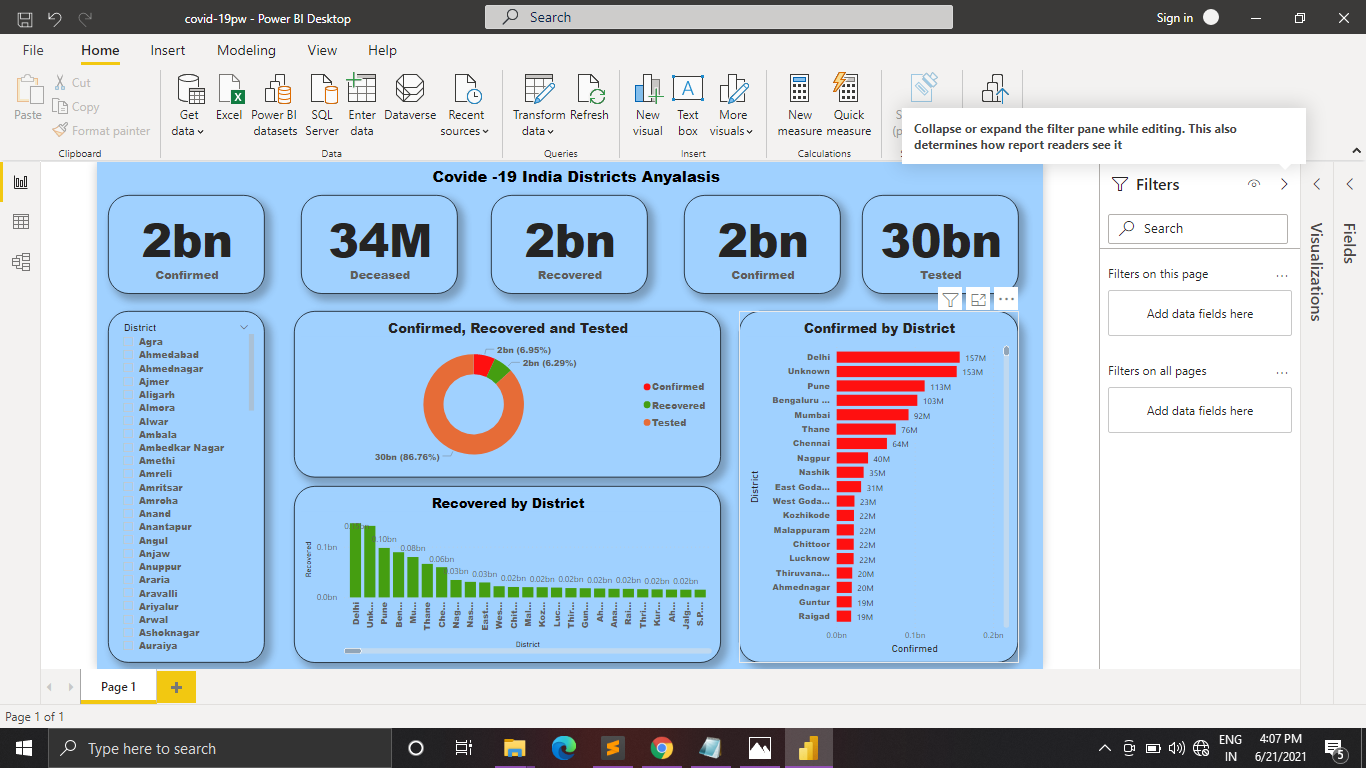

This screenshot's page, from the dashboard's own definition file:
{"tool":"powerbi","page":{"name":"Page 1","canvas":[1357,728],"ordinal":0},"visuals":[{"type":"textbox","box":[453.8,0,468.4,46.7],"z":0},{"type":"card","fields":{"Values":["Sum(districts_districts.Confirmed)"]},"box":[16.1,46.7,224.7,141.5],"z":1000},{"type":"card","fields":{"Values":["Sum(districts_districts.Deceased)"]},"box":[293.3,46.7,224.7,141.5],"z":2000},{"type":"card","fields":{"Values":["Sum(districts_districts.Recovered)"]},"box":[566.1,46.7,224.7,141.5],"z":3000},{"type":"card","fields":{"Values":["Sum(districts_districts.Confirmed)"]},"box":[843.4,46.7,224.7,141.5],"z":4000},{"type":"card","fields":{"Values":["Sum(districts_districts.Tested)"]},"box":[1098.7,46.7,224.7,141.5],"z":4001},{"type":"slicer","fields":{"Values":["districts_districts.District"]},"box":[16.1,214.5,224.7,504.9],"z":4002},{"type":"barChart","fields":{"Y":["Sum(districts_districts.Confirmed)"],"Category":["districts_districts.District"]},"box":[922.2,214.5,401.3,504.9],"z":4003},{"type":"donutChart","fields":{"Y":["Sum(districts_districts.Confirmed)","Sum(districts_districts.Recovered)","Sum(districts_districts.Tested)"]},"box":[283.1,214.5,612.8,239.3],"z":4004},{"type":"columnChart","fields":{"Category":["districts_districts.District"],"Y":["Sum(districts_districts.Recovered)"]},"box":[283.1,465.5,612.8,253.9],"z":4005}]}

Visuals, with their boxes on the page's 1357x728 design canvas (x1, y1, x2, y2). These are canvas units, not pixel positions in the 1366x768 screenshot, which may show the page scaled, cropped or inside an application window:
textbox: l=454, t=0, r=922, b=47
card - Sum(districts_districts.Confirmed): l=16, t=47, r=241, b=188
card - Sum(districts_districts.Deceased): l=293, t=47, r=518, b=188
card - Sum(districts_districts.Recovered): l=566, t=47, r=791, b=188
card - Sum(districts_districts.Confirmed): l=843, t=47, r=1068, b=188
card - Sum(districts_districts.Tested): l=1099, t=47, r=1323, b=188
slicer - districts_districts.District: l=16, t=214, r=241, b=719
barChart - Sum(districts_districts.Confirmed) x districts_districts.District: l=922, t=214, r=1324, b=719
donutChart - Sum(districts_districts.Confirmed) x Sum(districts_districts.Recovered): l=283, t=214, r=896, b=454
columnChart - districts_districts.District x Sum(districts_districts.Recovered): l=283, t=466, r=896, b=719
